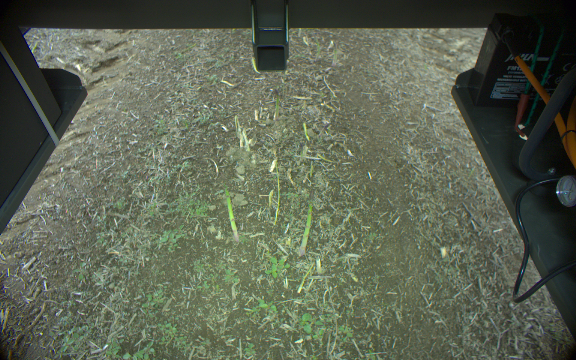aspa: (297, 187, 317, 256), (221, 184, 241, 242), (271, 89, 282, 117)
